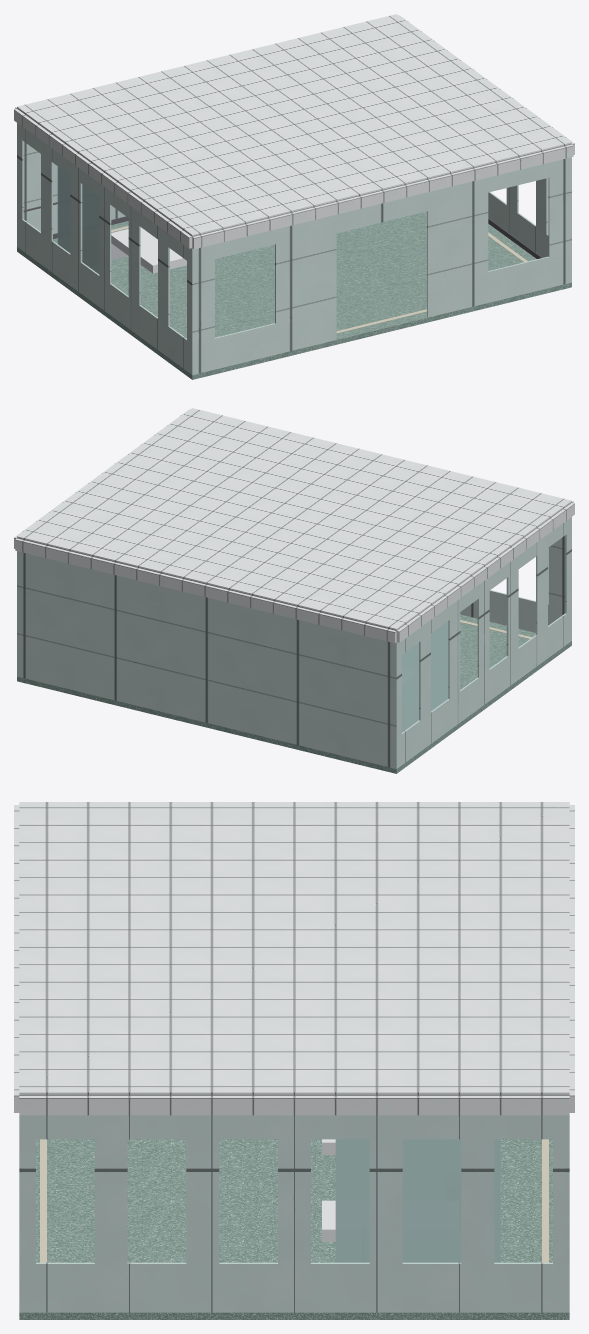
The model's file is spaces-int-clinic.glb.
3 renders of one model, top to bottom at view 1: azimuth 30°, elevation 25°; view 2: azimuth 150°, elevation 25°; view 3: azimuth 270°, elevation 25°, orthographic. The views are drawn at different scales.
Parts seen in each view (by area): view 1: clinic interior; view 2: clinic interior; view 3: clinic interior.
Boxes of the visible parts, x1=… form: clinic interior: x1=14, y1=14, x2=574, y2=379; clinic interior: x1=14, y1=408, x2=574, y2=773; clinic interior: x1=14, y1=802, x2=574, y2=1319.
Size of the model in its own units: 10.16 by 3.65 by 8.16.
11 materials, 4 textured.
